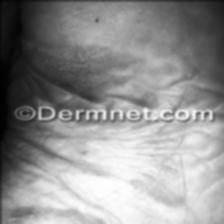Non-Cancerous Skin Condition: (32, 32, 162, 102)
